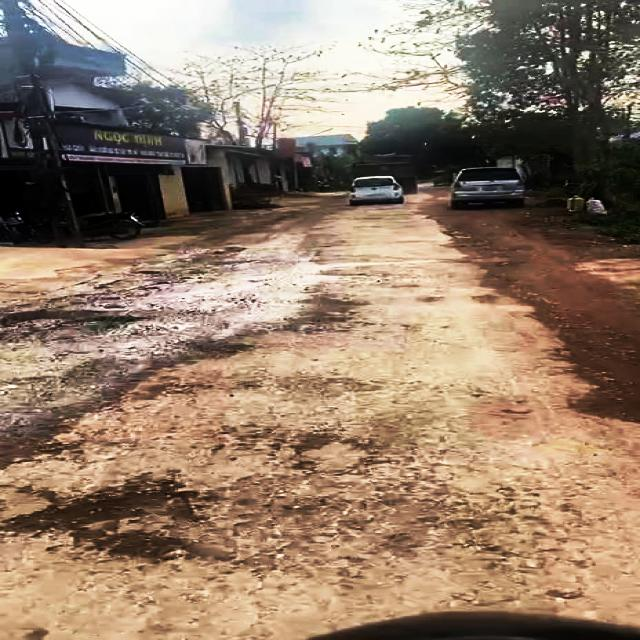pothole: (0, 478, 225, 558), (288, 429, 375, 477)
